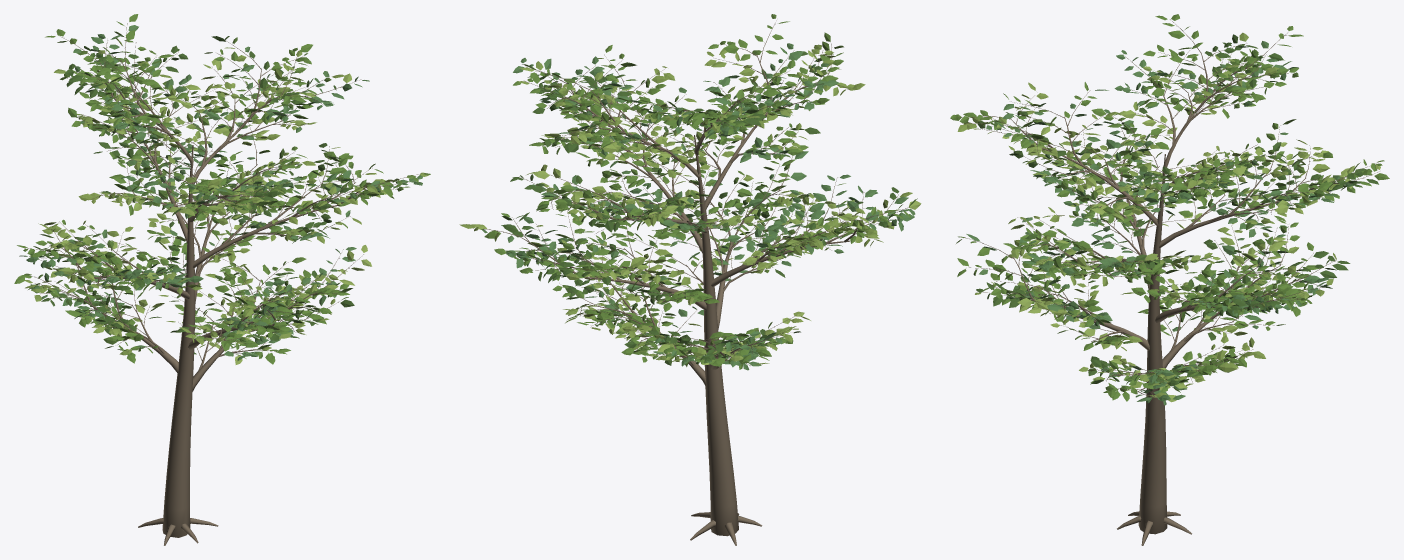
Rendered from broadleaf_windswept_high.glb.
3 renders of one model, left to right at view 1: azimuth 30°, elevation 25°; view 2: azimuth 150°, elevation 25°; view 3: azimuth 270°, elevation 25°, orthographic. The views are drawn at different scales.
Visible parts, largest first — view 1: broadleaf_windswept_high; view 2: broadleaf_windswept_high; view 3: broadleaf_windswept_high.
Part boxes in pixels (x1,y1,x2,y2): broadleaf_windswept_high: (14,14,430,545); broadleaf_windswept_high: (459,14,921,545); broadleaf_windswept_high: (950,14,1389,545).
Size of the model in its own units: 6.23 by 7.8 by 6.5.
